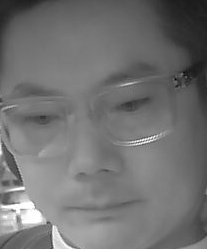eye: (110, 96, 151, 116), (24, 111, 57, 129)
glass: (91, 77, 177, 144), (1, 94, 70, 156)
mouth: (65, 190, 142, 233)
